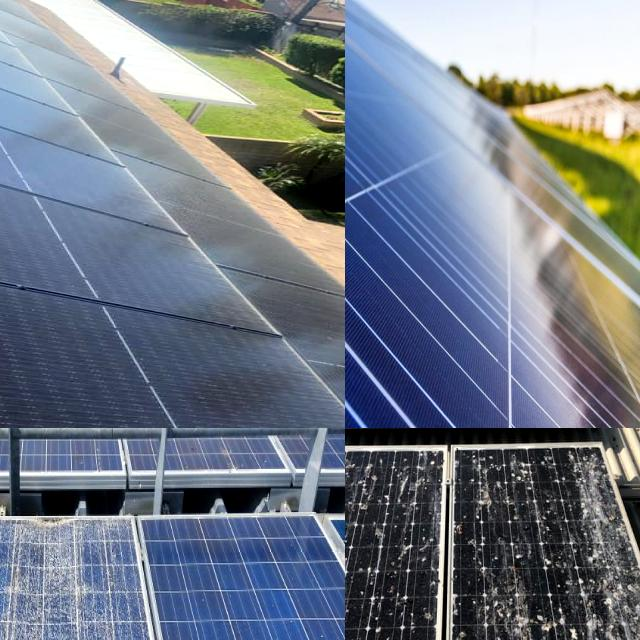bird: (358, 526, 423, 640), (526, 479, 595, 569), (345, 449, 431, 513), (454, 590, 563, 640), (345, 458, 394, 547), (578, 577, 635, 640), (345, 525, 373, 636), (345, 563, 381, 640), (513, 428, 560, 459), (470, 428, 520, 448), (426, 428, 442, 484)
crack: (345, 122, 473, 428), (345, 213, 518, 428)
dust: (190, 157, 345, 260), (309, 22, 345, 140)
